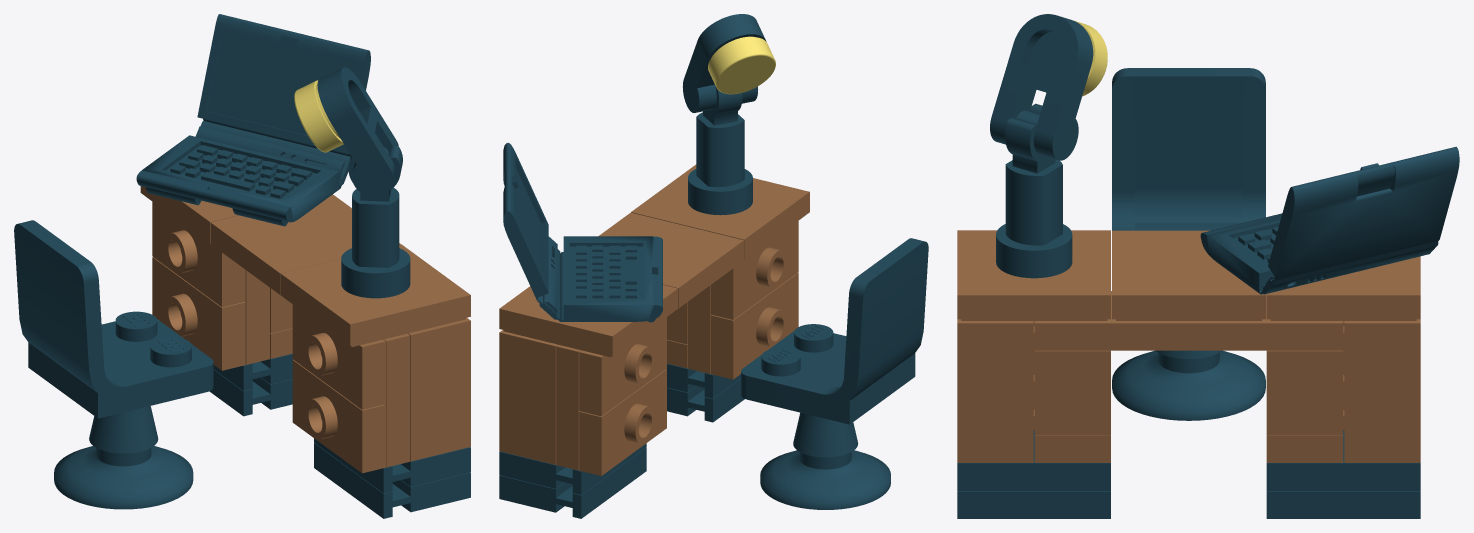
File: teacher_desk.glb
3 renders of one model, left to right at view 1: azimuth 30°, elevation 25°; view 2: azimuth 150°, elevation 25°; view 3: azimuth 270°, elevation 25°, orthographic. The views are drawn at different scales.
Parts seen in each view (by area): view 1: _62698_f2_dot_dat; view 2: _62698_f2_dot_dat; view 3: _62698_f2_dot_dat.
Part boxes in pixels (x1,y1,x2,y2): _62698_f2_dot_dat: (14,14,470,518); _62698_f2_dot_dat: (499,14,928,518); _62698_f2_dot_dat: (957,14,1459,518).
Size of the model in its own units: 1.26 by 1.35 by 1.34.
